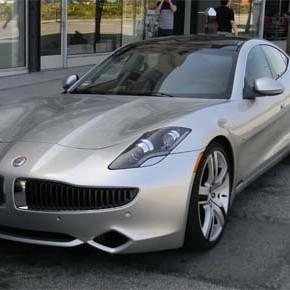Car: (0, 30, 289, 267)
